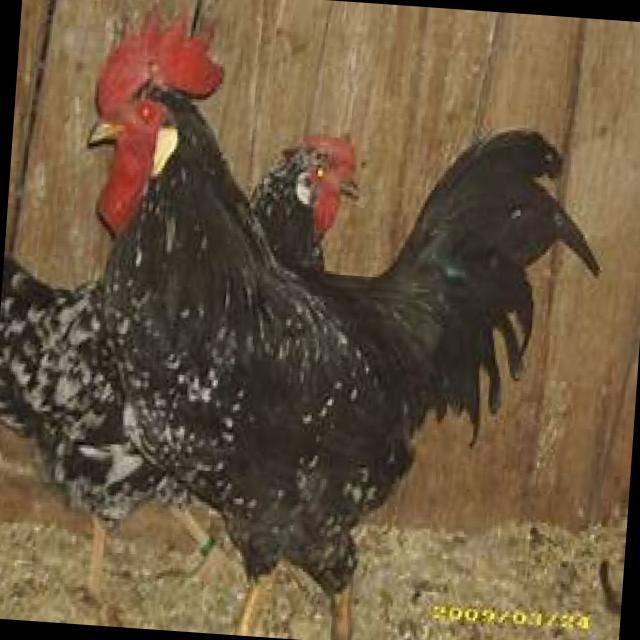animal: (56, 1, 596, 640), (0, 104, 361, 611)
